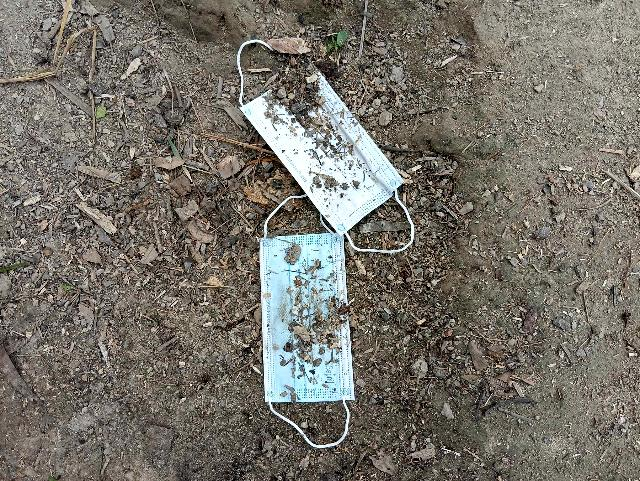mask: (181, 50, 469, 448)
